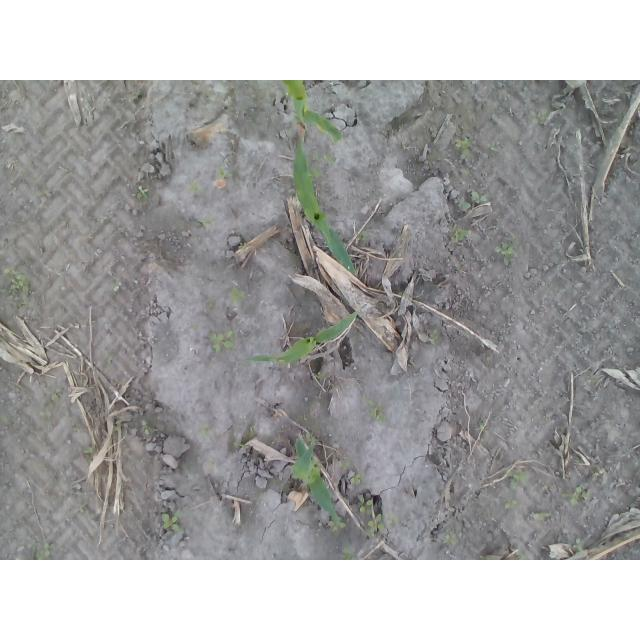Maize: (293, 134, 358, 274), (241, 312, 358, 364), (292, 435, 341, 525), (281, 81, 343, 144)
Weeds: (1, 265, 32, 308), (367, 514, 397, 539), (208, 328, 236, 353), (458, 191, 489, 209), (366, 398, 386, 424), (160, 512, 181, 533), (565, 483, 585, 505), (528, 108, 549, 127), (28, 542, 49, 560), (510, 469, 528, 489), (494, 240, 514, 257), (453, 136, 473, 153), (229, 287, 247, 304), (326, 518, 347, 531), (218, 166, 240, 178), (455, 228, 473, 242), (135, 184, 150, 200), (358, 496, 372, 513), (320, 153, 337, 164), (350, 472, 363, 486), (0, 414, 16, 425), (186, 183, 203, 193), (505, 499, 520, 510), (142, 417, 151, 435), (443, 534, 457, 545), (429, 328, 439, 343), (307, 435, 317, 449), (573, 538, 583, 551), (339, 552, 354, 560), (40, 408, 53, 417), (83, 447, 93, 458), (311, 167, 321, 177), (112, 280, 120, 292), (232, 440, 244, 448), (535, 512, 545, 521), (517, 552, 527, 561), (200, 427, 208, 438), (357, 231, 365, 242), (487, 144, 496, 152), (314, 371, 322, 380), (79, 504, 87, 512), (478, 419, 484, 429), (313, 96, 320, 103)
